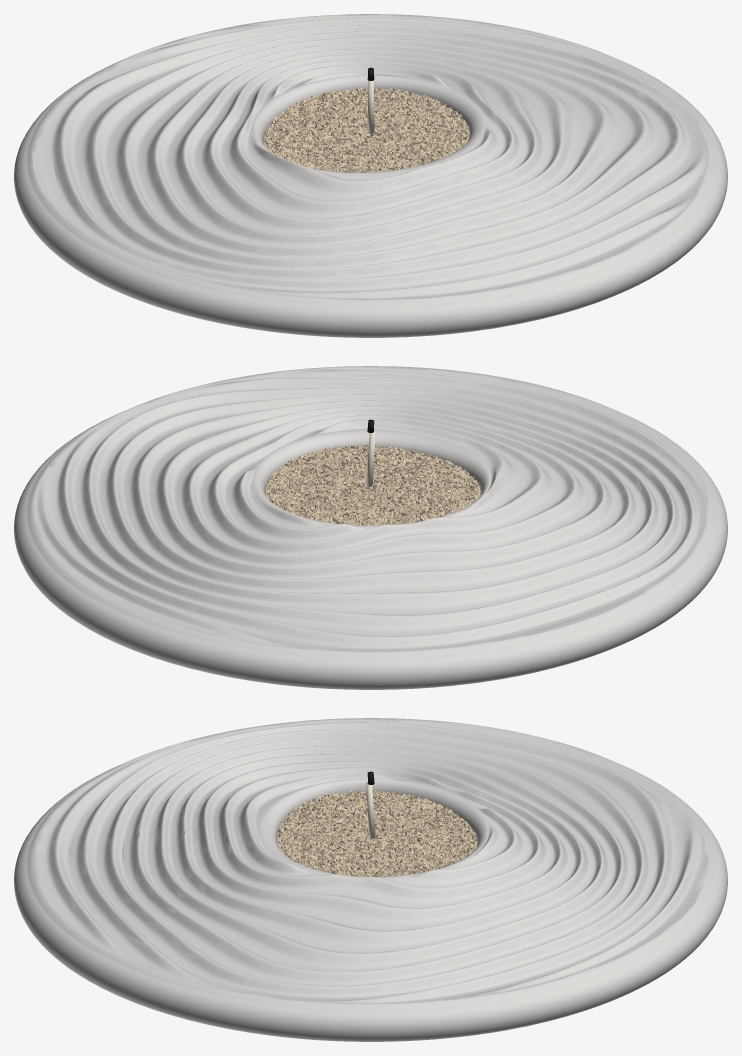
File: ondas.glb
3 views of the same model, one above another, from view 1: azimuth 30°, elevation 25°; view 2: azimuth 150°, elevation 25°; view 3: azimuth 270°, elevation 25° (orthographic).
Visible parts, largest first — view 1: Ondas, Areia; view 2: Ondas, Areia; view 3: Ondas, Areia.
Boxes of the visible parts, bbox=[...] form: Ondas: bbox=[14, 14, 727, 337]; Areia: bbox=[264, 87, 469, 172]; Ondas: bbox=[14, 366, 727, 689]; Areia: bbox=[266, 444, 480, 525]; Ondas: bbox=[14, 718, 727, 1041]; Areia: bbox=[277, 790, 476, 876].
Size of the model in its own units: 0.24 by 0.0551 by 0.24.
